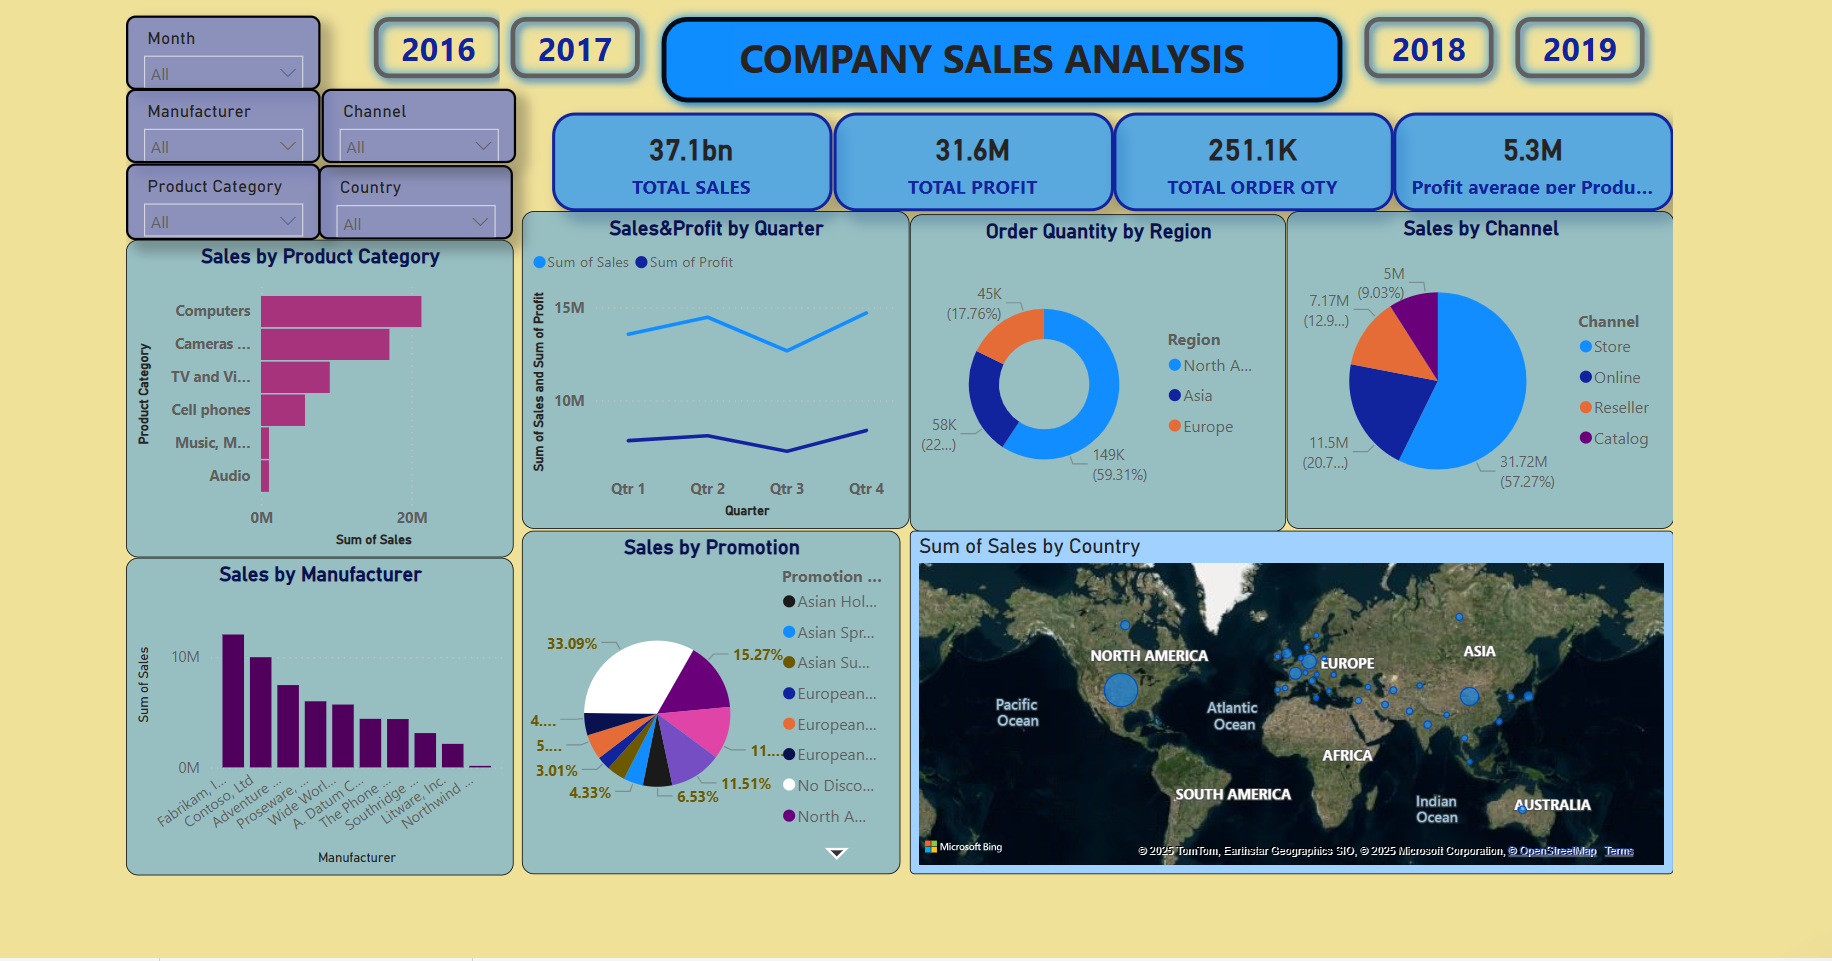

The dashboard page shown, as its layout file describes it:
{"tool":"powerbi","page":{"name":"SUMMARY","canvas":[1280,720],"ordinal":1},"visuals":[{"type":"group","id":"g1","title":"Group 1","box":[434.7,0,581.5,88.8],"z":0},{"type":"shape","box":[434.7,0,581.5,88.8],"z":0,"group":"g1"},{"type":"actionButton","box":[195.6,0,125,68.8],"z":1000},{"type":"textbox","box":[503.5,16.3,443.8,52.5],"z":1000,"group":"g1"},{"type":"actionButton","box":[1016.2,0,125,68.8],"z":2000},{"type":"actionButton","box":[1141.2,0,125,68.8],"z":3000},{"type":"actionButton","box":[309.7,0,125,68.8],"z":4000},{"type":"card","fields":{"Values":["KPIs.TOTAL SALES"]},"box":[353.2,88.8,231.9,81.5],"z":5000},{"type":"card","fields":{"Values":["KPIs.TOTAL PROFIT"]},"box":[585.1,88.8,231.9,81.5],"z":6000},{"type":"card","fields":{"Values":["KPIs.TOTAL ORDER QTY"]},"box":[816.9,88.8,231.9,81.5],"z":7000},{"type":"card","fields":{"Values":["KPIs.Profit average per Product Category"]},"box":[1048.8,88.8,231.9,81.5],"z":8000},{"type":"barChart","title":"Sales by Product Category","fields":{"Category":["COMPANY SALES DATA.Product Category"],"Y":["Sum(COMPANY SALES DATA.Sales)"]},"box":[0,193.8,320.6,262.7],"z":9000},{"type":"lineChart","title":"Sales&Profit by Quarter","fields":{"Category":["COMPANY SALES DATA.Order Date.Variation.Date Hierarchy.Quarter"],"Y":["Sum(COMPANY SALES DATA.Sales)","Sum(COMPANY SALES DATA.Profit)"]},"box":[327.9,170.3,320.6,262.7],"z":10000},{"type":"pieChart","title":"Sales by Channel","fields":{"Category":["COMPANY SALES DATA.Channel"],"Y":["Sum(COMPANY SALES DATA.Sales)"]},"box":[960,170.3,320.6,262.7],"z":11000},{"type":"donutChart","title":"Order Quantity by Region","fields":{"Category":["COMPANY SALES DATA.Region"],"Y":["Sum(COMPANY SALES DATA.Order Qty)"]},"box":[648.5,172.1,311.6,262.7],"z":12000},{"type":"map","fields":{"Category":["COMPANY SALES DATA.Country"],"Size":["Sum(COMPANY SALES DATA.Sales)"]},"box":[648.5,434.7,632.2,284.4],"z":13000},{"type":"columnChart","title":"Sales by Manufacturer","fields":{"Category":["COMPANY SALES DATA.Manufacturer"],"Y":["Sum(COMPANY SALES DATA.Sales)"]},"box":[0,456.5,320.6,262.7],"z":14000},{"type":"pieChart","title":"Sales by Promotion","fields":{"Y":["Sum(COMPANY SALES DATA.Sales)"],"Series":["COMPANY SALES DATA.Promotion Name"]},"box":[327.9,434.7,313.4,284.4],"z":15000},{"type":"slicer","fields":{"Values":["COMPANY SALES DATA.Order Date.Variation.Date Hierarchy.Month"]},"box":[0,7.2,161.2,61.6],"z":16000},{"type":"slicer","fields":{"Values":["COMPANY SALES DATA.Manufacturer"]},"box":[0,68.8,161.2,61.6],"z":17000},{"type":"slicer","fields":{"Values":["COMPANY SALES DATA.Product Category"]},"box":[0,130.4,161.2,63.4],"z":18000},{"type":"slicer","fields":{"Values":["COMPANY SALES DATA.Country"]},"box":[159.4,132.2,161.2,61.6],"z":19000},{"type":"slicer","fields":{"Values":["COMPANY SALES DATA.Channel"]},"box":[161.2,68.8,161.2,61.6],"z":20000}]}

Visuals, with their boxes on the page's 1280x720 design canvas (x1, y1, x2, y2). These are canvas units, not pixel positions in the 1832x961 screenshot, which may show the page scaled, cropped or inside an application window:
"Group 1" group: bbox=(435, 0, 1016, 89)
shape: bbox=(435, 0, 1016, 89)
actionButton: bbox=(196, 0, 321, 69)
textbox: bbox=(504, 16, 947, 69)
actionButton: bbox=(1016, 0, 1141, 69)
actionButton: bbox=(1141, 0, 1266, 69)
actionButton: bbox=(310, 0, 435, 69)
card - KPIs.TOTAL SALES: bbox=(353, 89, 585, 170)
card - KPIs.TOTAL PROFIT: bbox=(585, 89, 817, 170)
card - KPIs.TOTAL ORDER QTY: bbox=(817, 89, 1049, 170)
card - KPIs.Profit average per Product Category: bbox=(1049, 89, 1281, 170)
"Sales by Product Category" barChart: bbox=(0, 194, 321, 456)
"Sales&Profit by Quarter" lineChart: bbox=(328, 170, 648, 433)
"Sales by Channel" pieChart: bbox=(960, 170, 1281, 433)
"Order Quantity by Region" donutChart: bbox=(648, 172, 960, 435)
map - COMPANY SALES DATA.Country x Sum(COMPANY SALES DATA.Sales): bbox=(648, 435, 1281, 719)
"Sales by Manufacturer" columnChart: bbox=(0, 456, 321, 719)
"Sales by Promotion" pieChart: bbox=(328, 435, 641, 719)
slicer - COMPANY SALES DATA.Order Date.Variation.Date Hierarchy.Month: bbox=(0, 7, 161, 69)
slicer - COMPANY SALES DATA.Manufacturer: bbox=(0, 69, 161, 130)
slicer - COMPANY SALES DATA.Product Category: bbox=(0, 130, 161, 194)
slicer - COMPANY SALES DATA.Country: bbox=(159, 132, 321, 194)
slicer - COMPANY SALES DATA.Channel: bbox=(161, 69, 322, 130)
